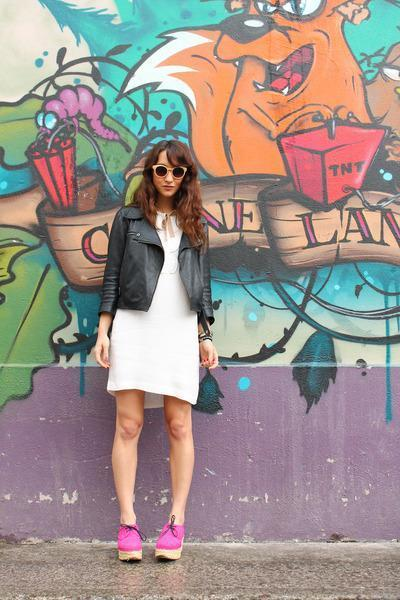dress: (108, 212, 205, 416)
jacket: (84, 195, 221, 338)
shoe: (108, 522, 184, 559)
